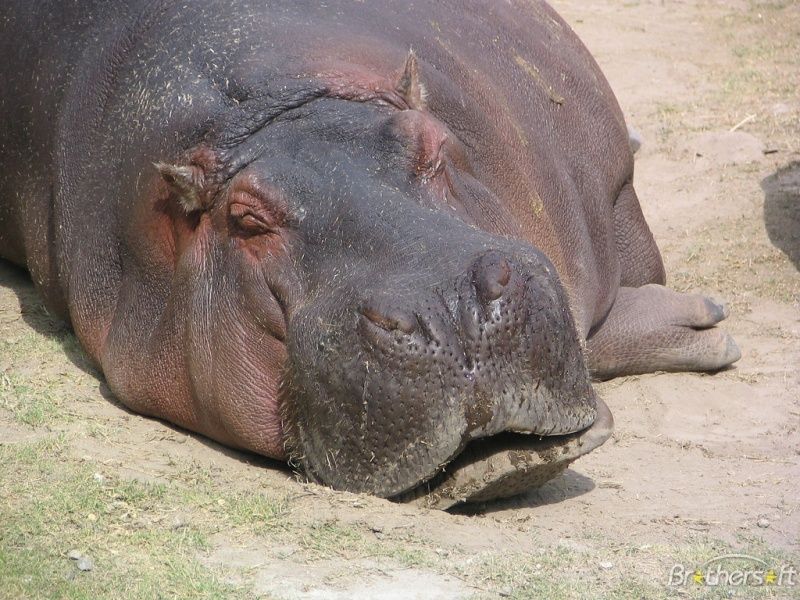hipopotamo: (0, 2, 739, 507)
